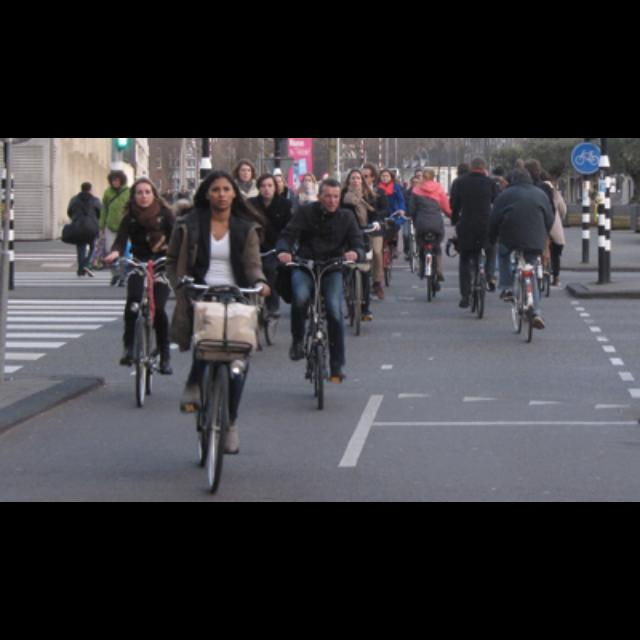Without Helmet: (197, 164, 240, 212), (314, 172, 346, 216), (124, 170, 160, 208)
